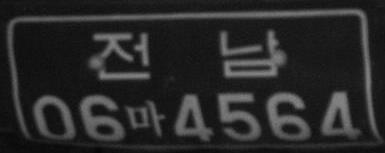0: (31, 93, 76, 140)
4: (320, 90, 363, 140), (172, 92, 214, 142)
5: (216, 91, 262, 143)
6: (264, 89, 313, 143), (78, 93, 127, 143)
마: (127, 98, 165, 138)
전남_D: (91, 28, 280, 82)
